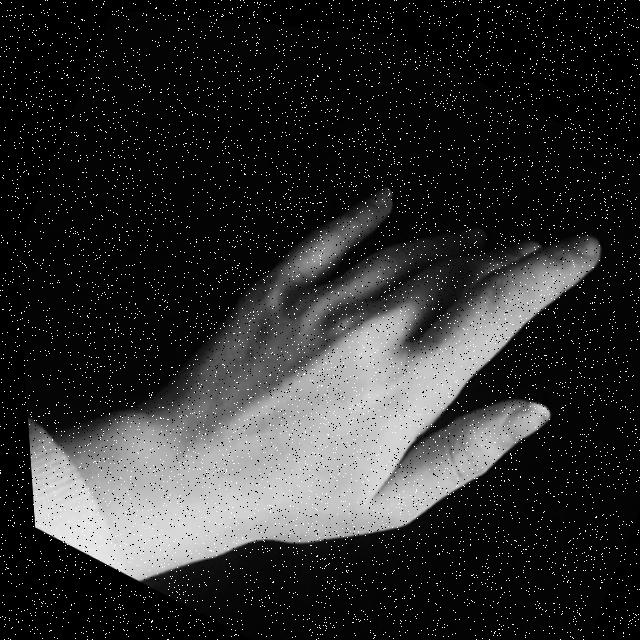hand: (106, 56, 637, 636)
